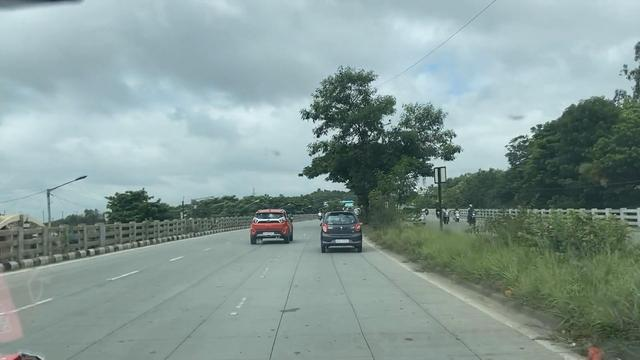LMV: (321, 213, 362, 254), (251, 211, 293, 245)
